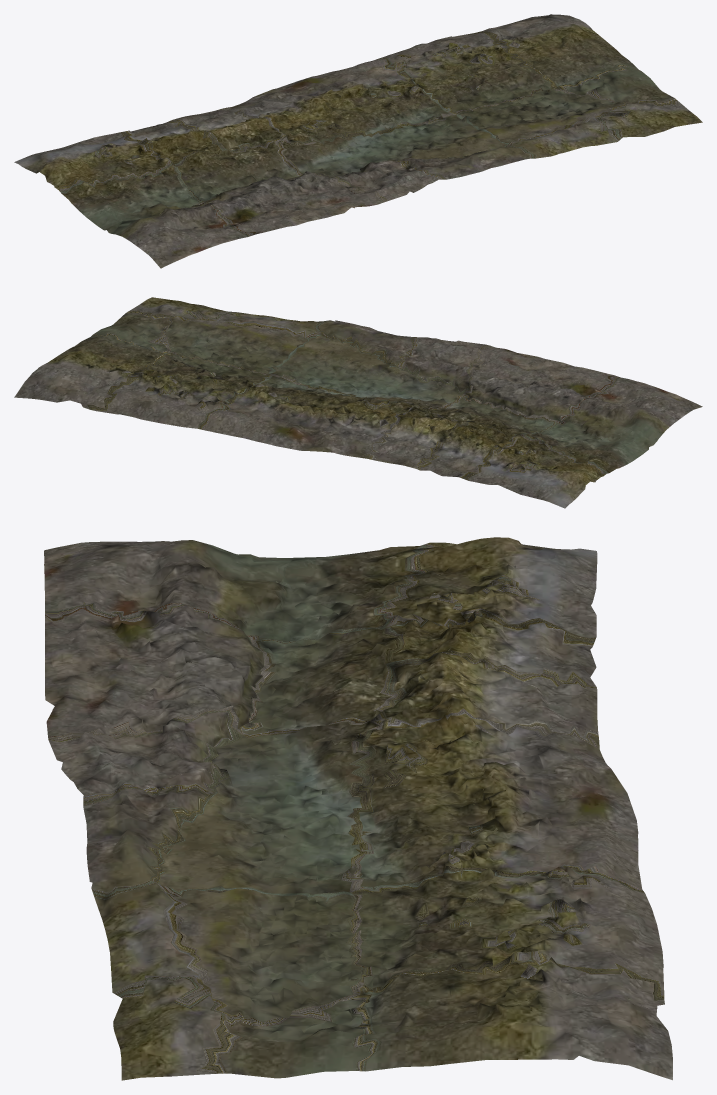
Rendered from coast_line_02_lod1.glb.
The picture shows the model from 3 angles, top to bottom: view 1: azimuth 30°, elevation 25°; view 2: azimuth 150°, elevation 25°; view 3: azimuth 270°, elevation 25°; orthographic projection. The views are drawn at different scales.
Visible parts, largest first — view 1: coast_line_02; view 2: coast_line_02; view 3: coast_line_02.
Boxes of the visible parts, left/top/right/bottom form: coast_line_02: left=14, top=14, right=702, bottom=268; coast_line_02: left=14, top=297, right=702, bottom=508; coast_line_02: left=44, top=537, right=672, bottom=1080.
Bounding box in the file's own units: 45.61 × 2.29 × 23.28.
Materials: 1 (1 with a texture image).
